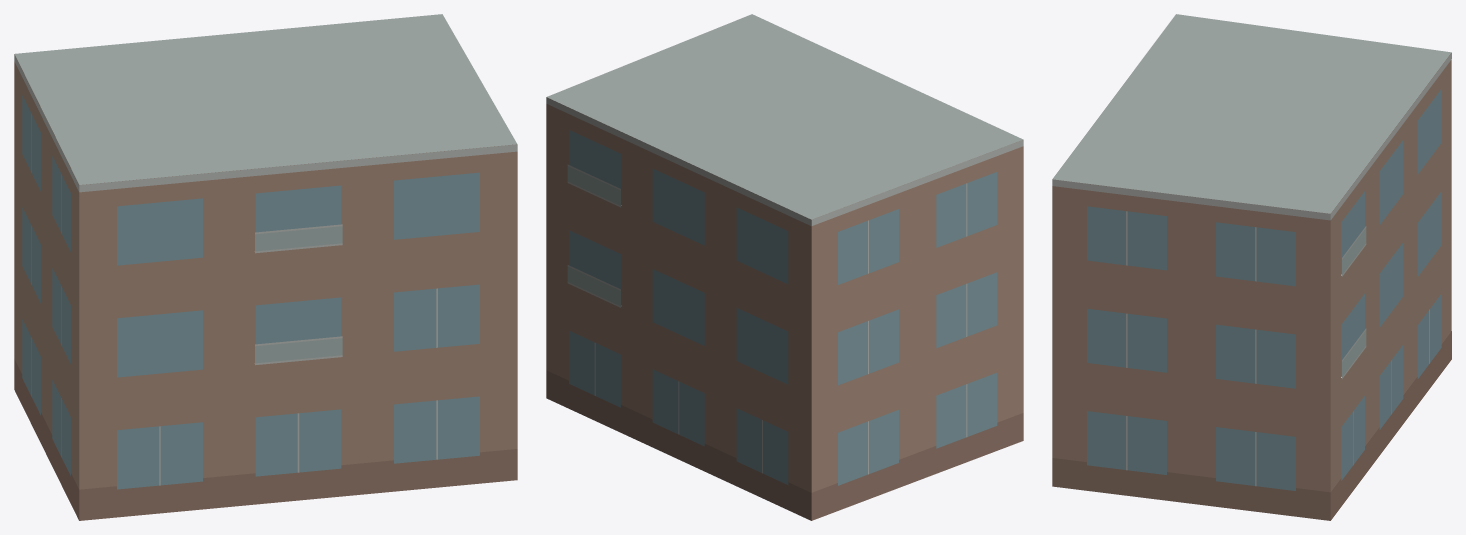
Rendered from survey-upis-32742318.glb.
3 views of the same model, side by side, from view 1: azimuth 30°, elevation 25°; view 2: azimuth 150°, elevation 25°; view 3: azimuth 270°, elevation 25° (orthographic). The views are drawn at different scales.
Parts seen in each view (by area): view 1: survey-upis-32742318.tmp; view 2: survey-upis-32742318.tmp; view 3: survey-upis-32742318.tmp.
Boxes of the visible parts, x1=… form: survey-upis-32742318.tmp: x1=14, y1=14, x2=517, y2=520; survey-upis-32742318.tmp: x1=546, y1=14, x2=1023, y2=520; survey-upis-32742318.tmp: x1=1052, y1=14, x2=1451, y2=520.
Size of the model in its own units: 15.64 by 11.2 by 13.22.
